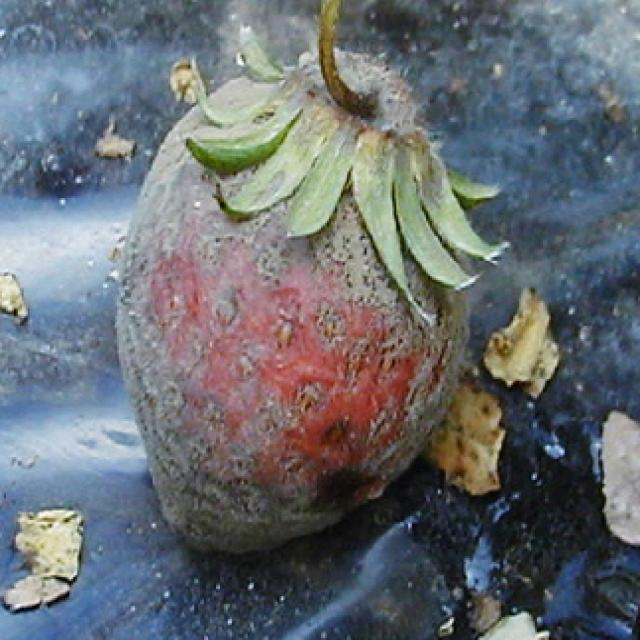Gray Mold: (115, 44, 507, 553)
